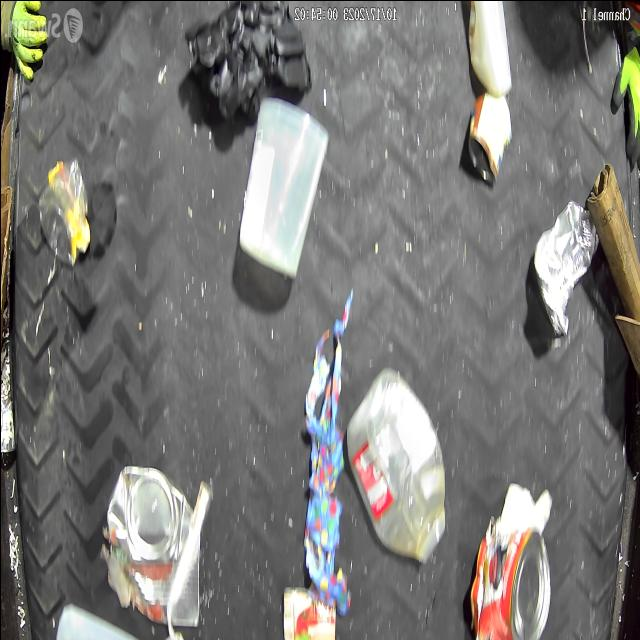can: (105, 465, 198, 626), (470, 528, 551, 640), (464, 91, 508, 182), (0, 394, 15, 454)
milk_jug: (50, 603, 148, 640)
non_white_jug: (345, 367, 444, 560)
